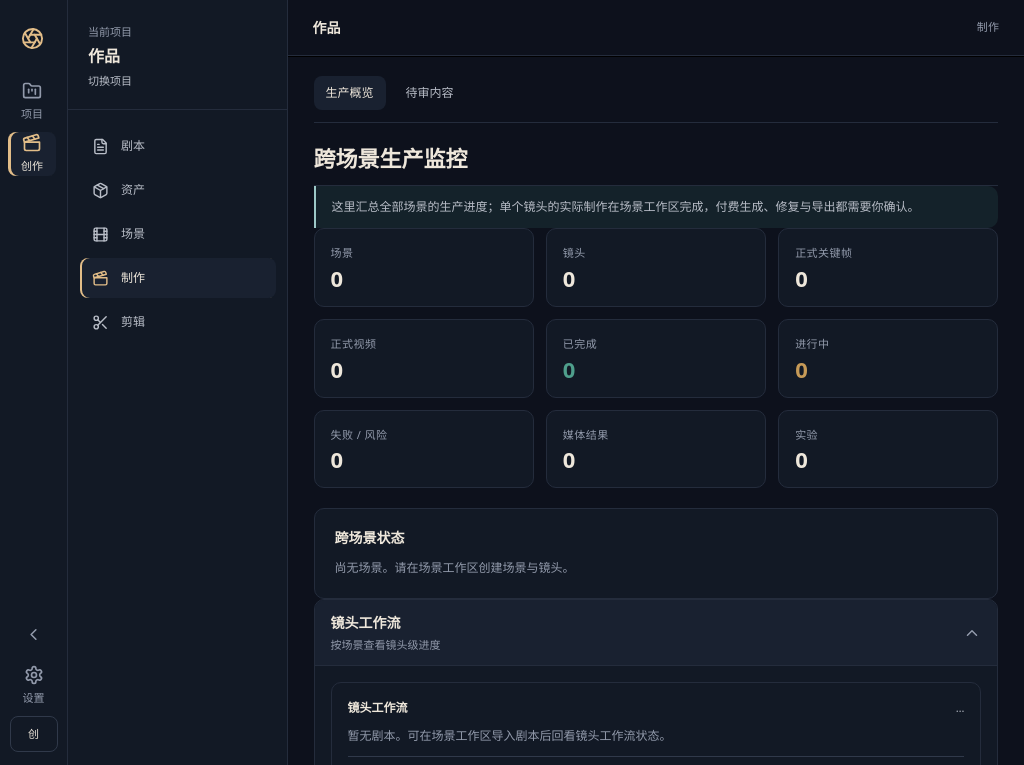
keeps the Settings entry reachable from a Project route
Click the link "设置" at [34, 685], box [22,665,44,705]
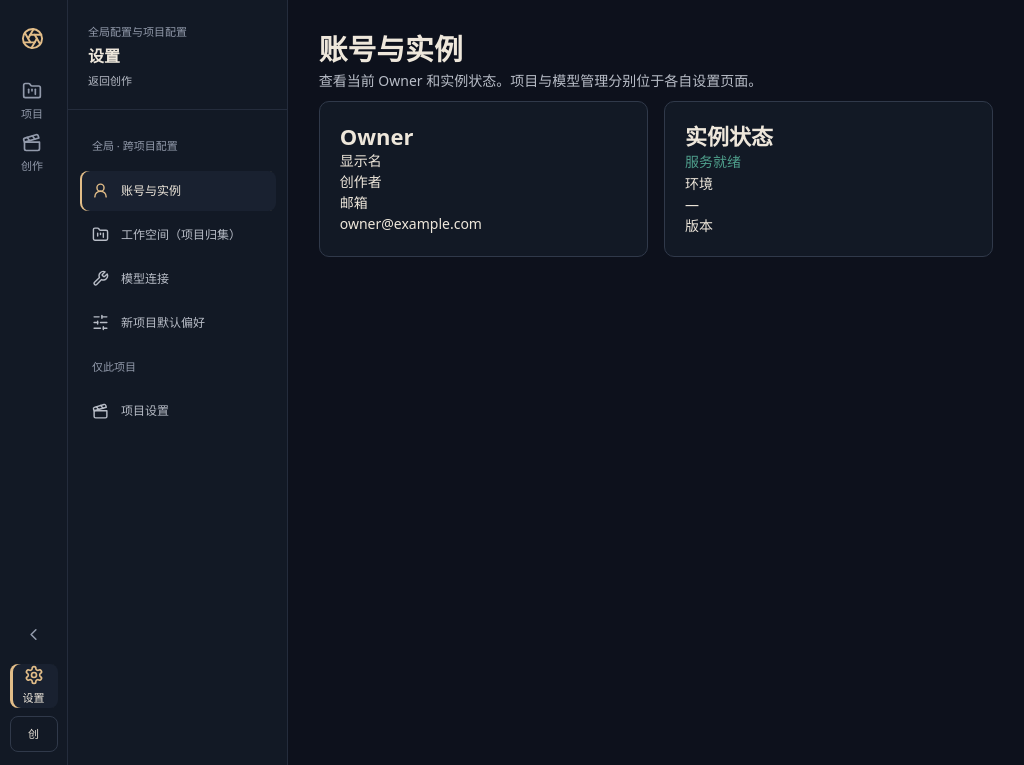
Expected: the element with test id "account-settings-page" is shown, [288,0,1023,305]
